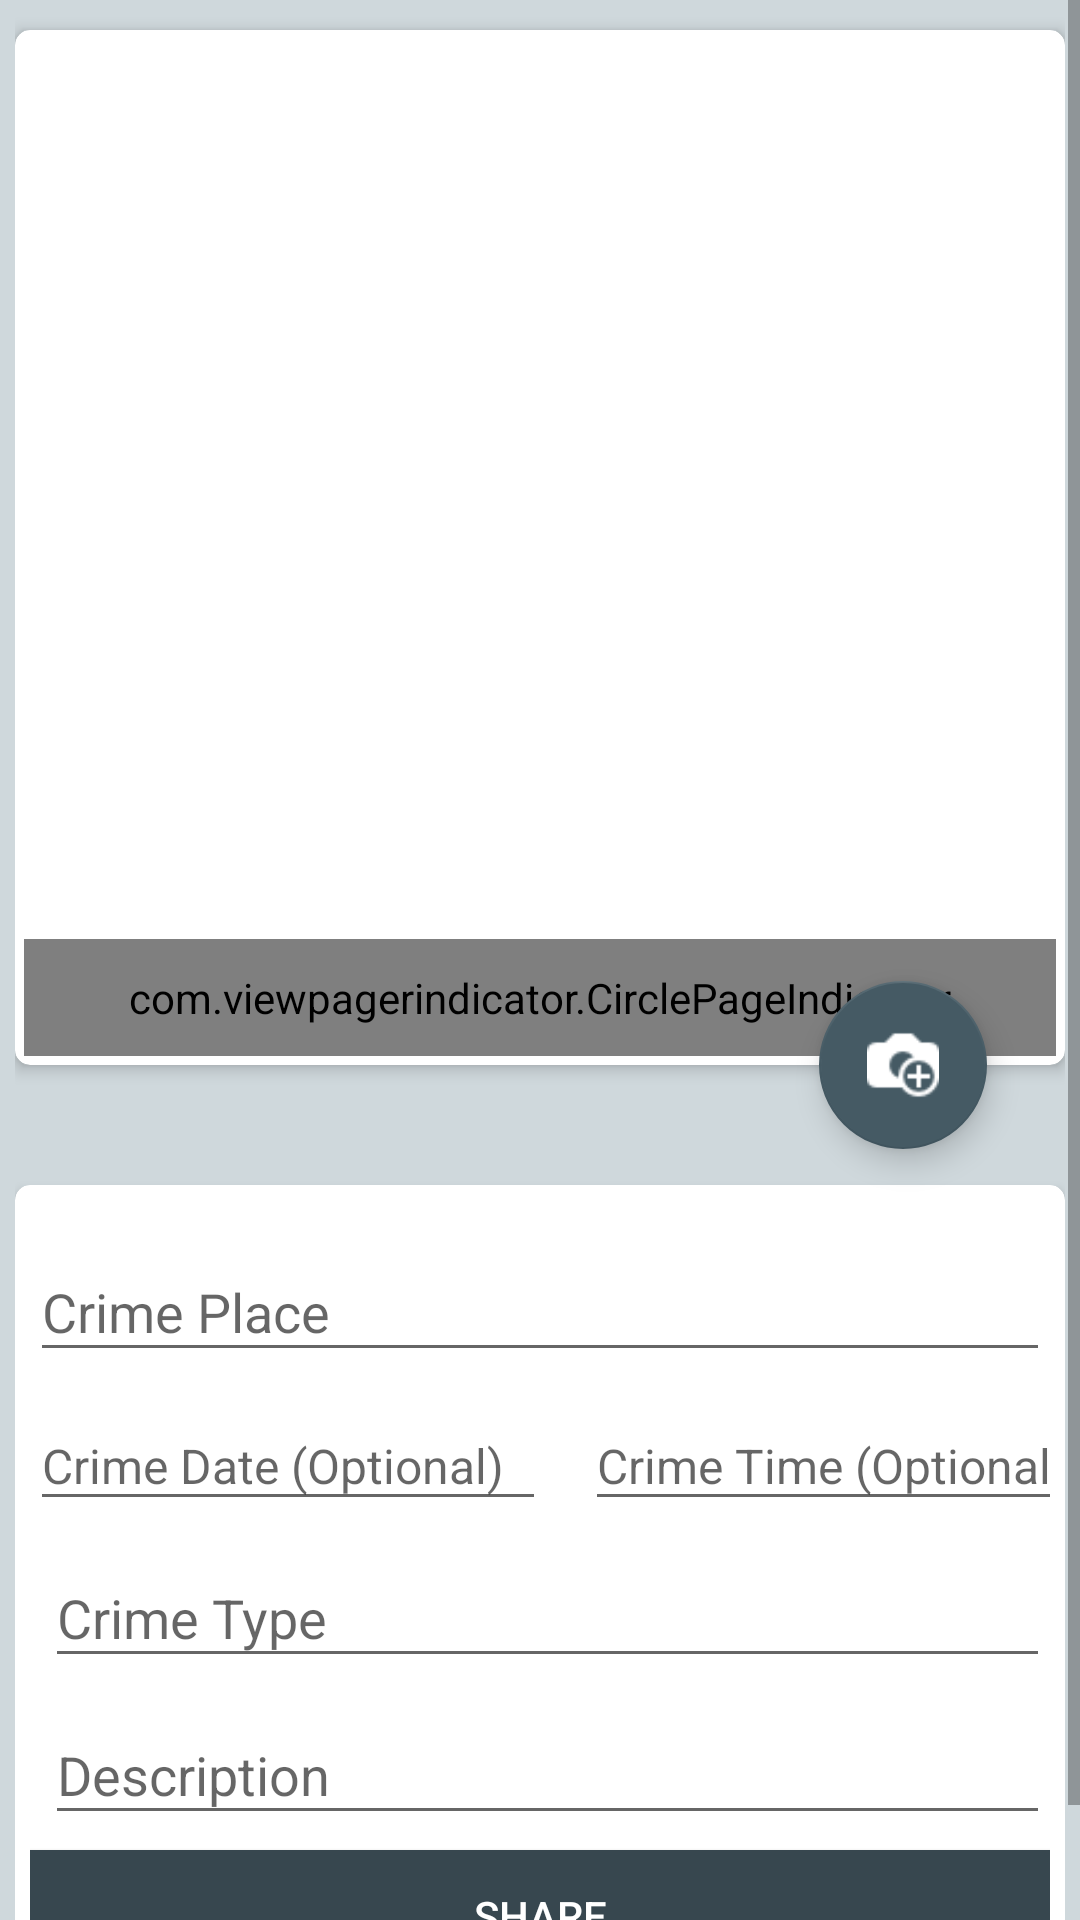

Icons on this 1080*1920 Android screen, each with the point to tap as [x,y]:
add camera: [903,1065]
